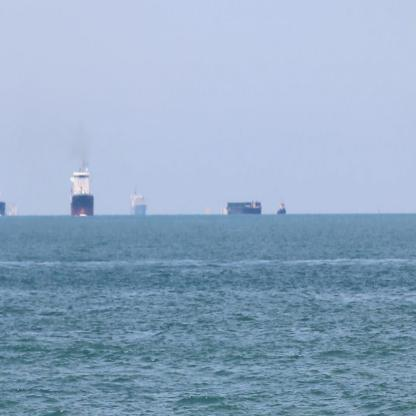Container Ship: (68, 156, 95, 219), (224, 197, 264, 217), (127, 184, 148, 219), (275, 192, 288, 216)
